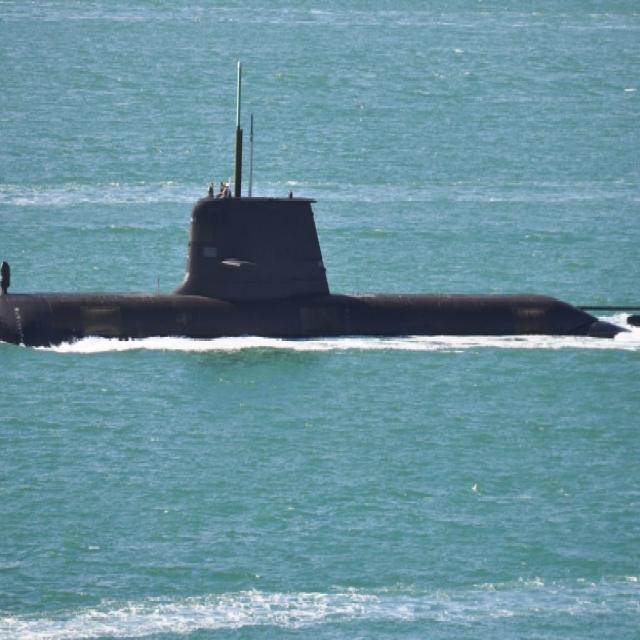submarine: (1, 195, 640, 338)
